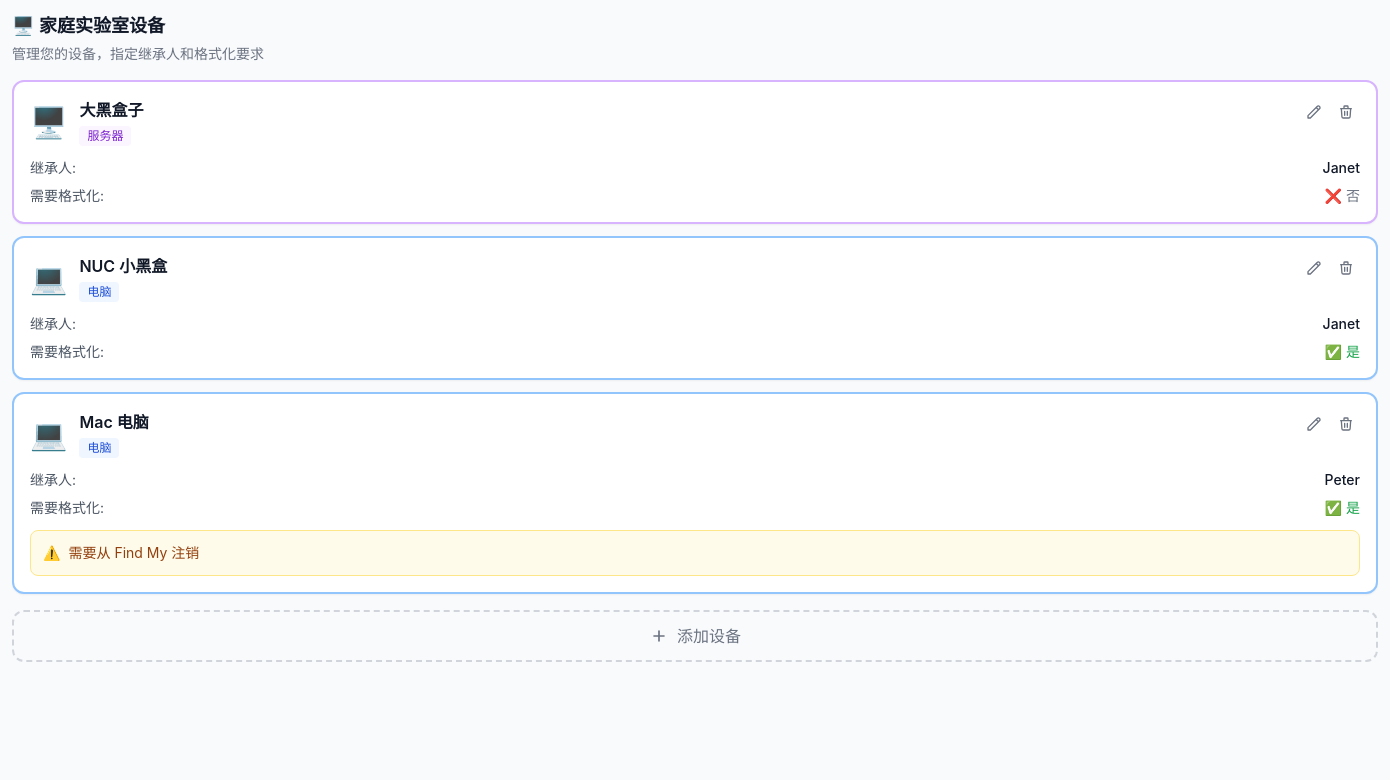
DeviceCardList › Edit Device › should close form when cancelled
The width and height of the screenshot is (1390, 780).
What coordinates should you click on to do the following:
click the button with test id "device-edit-button" in the row of "大黑盒子"
I would click on:
 (1314, 112)
Its box is x1=1300 y1=98 x2=1328 y2=126.
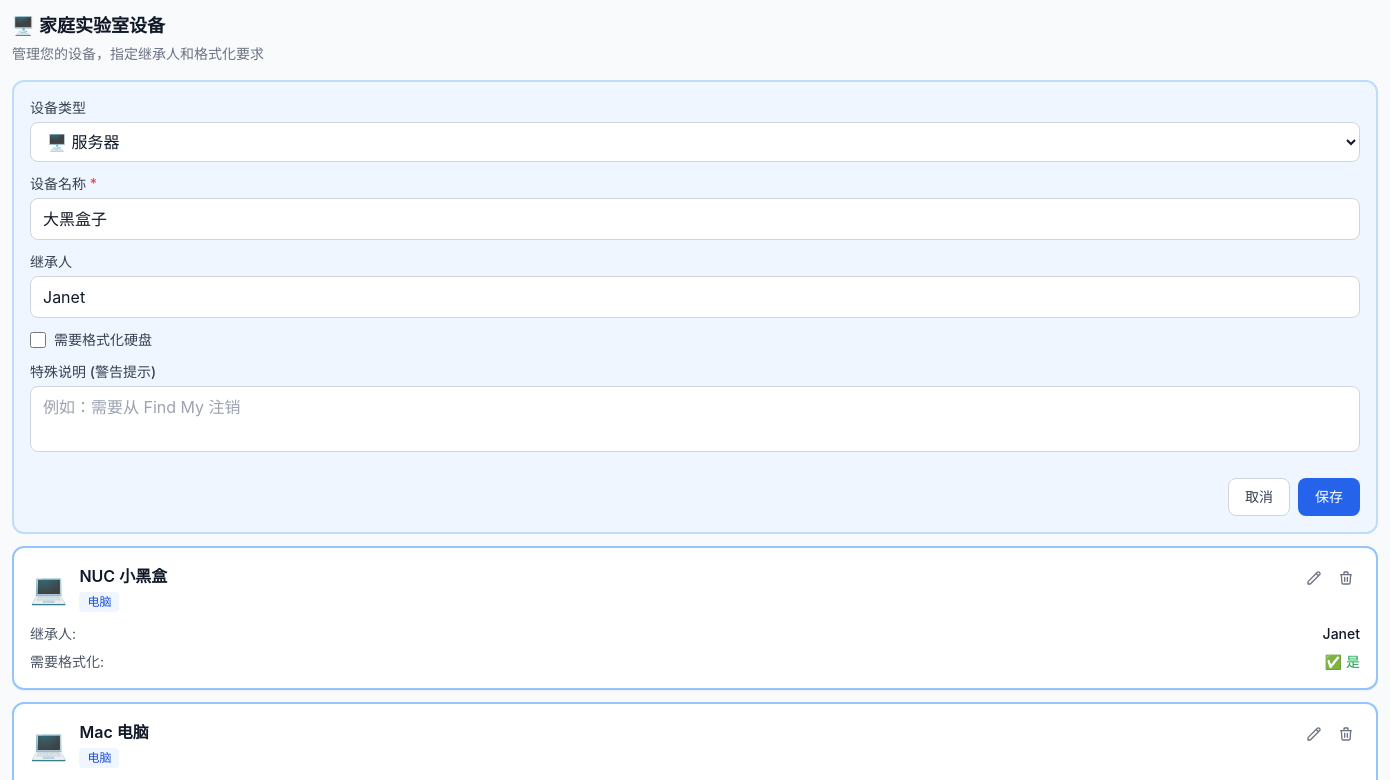
What coordinates should you click on to do the following:
click the button with test id "device-cancel-button"
I would click on:
 (1259, 497)
Its box is x1=1228 y1=478 x2=1290 y2=516.
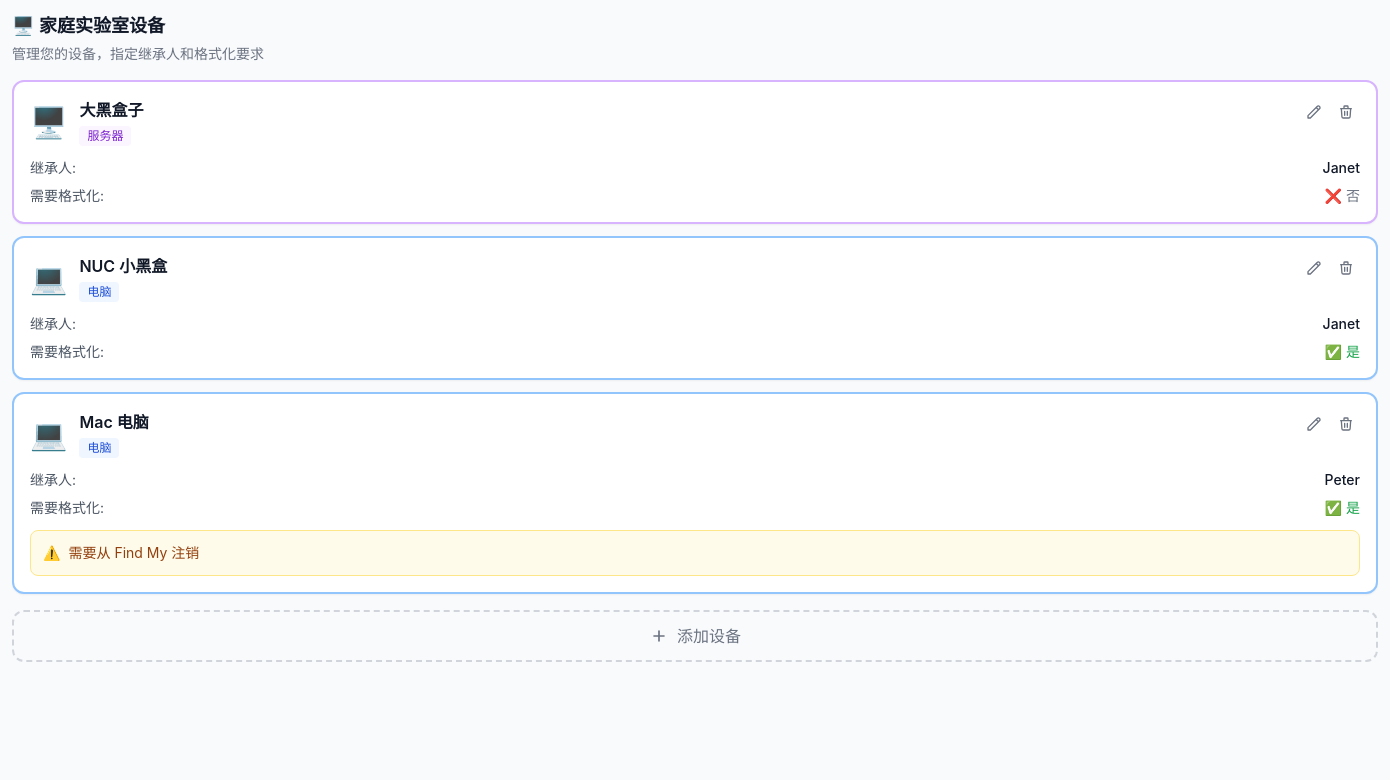
Now the form with test id "device-card-form" is gone
Now the number of elements with test id "device-card" is 3, box x1=12 y1=80 x2=1378 y2=224; x1=12 y1=236 x2=1378 y2=380; x1=12 y1=392 x2=1378 y2=594
